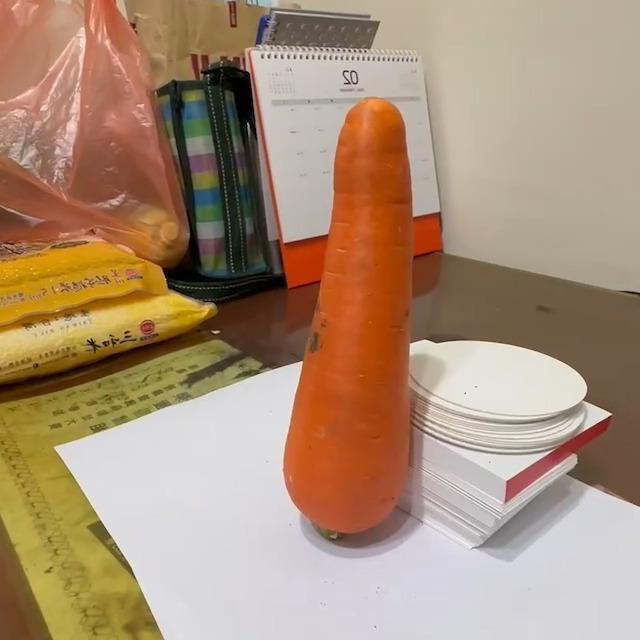carrot: (283, 98, 420, 533)
